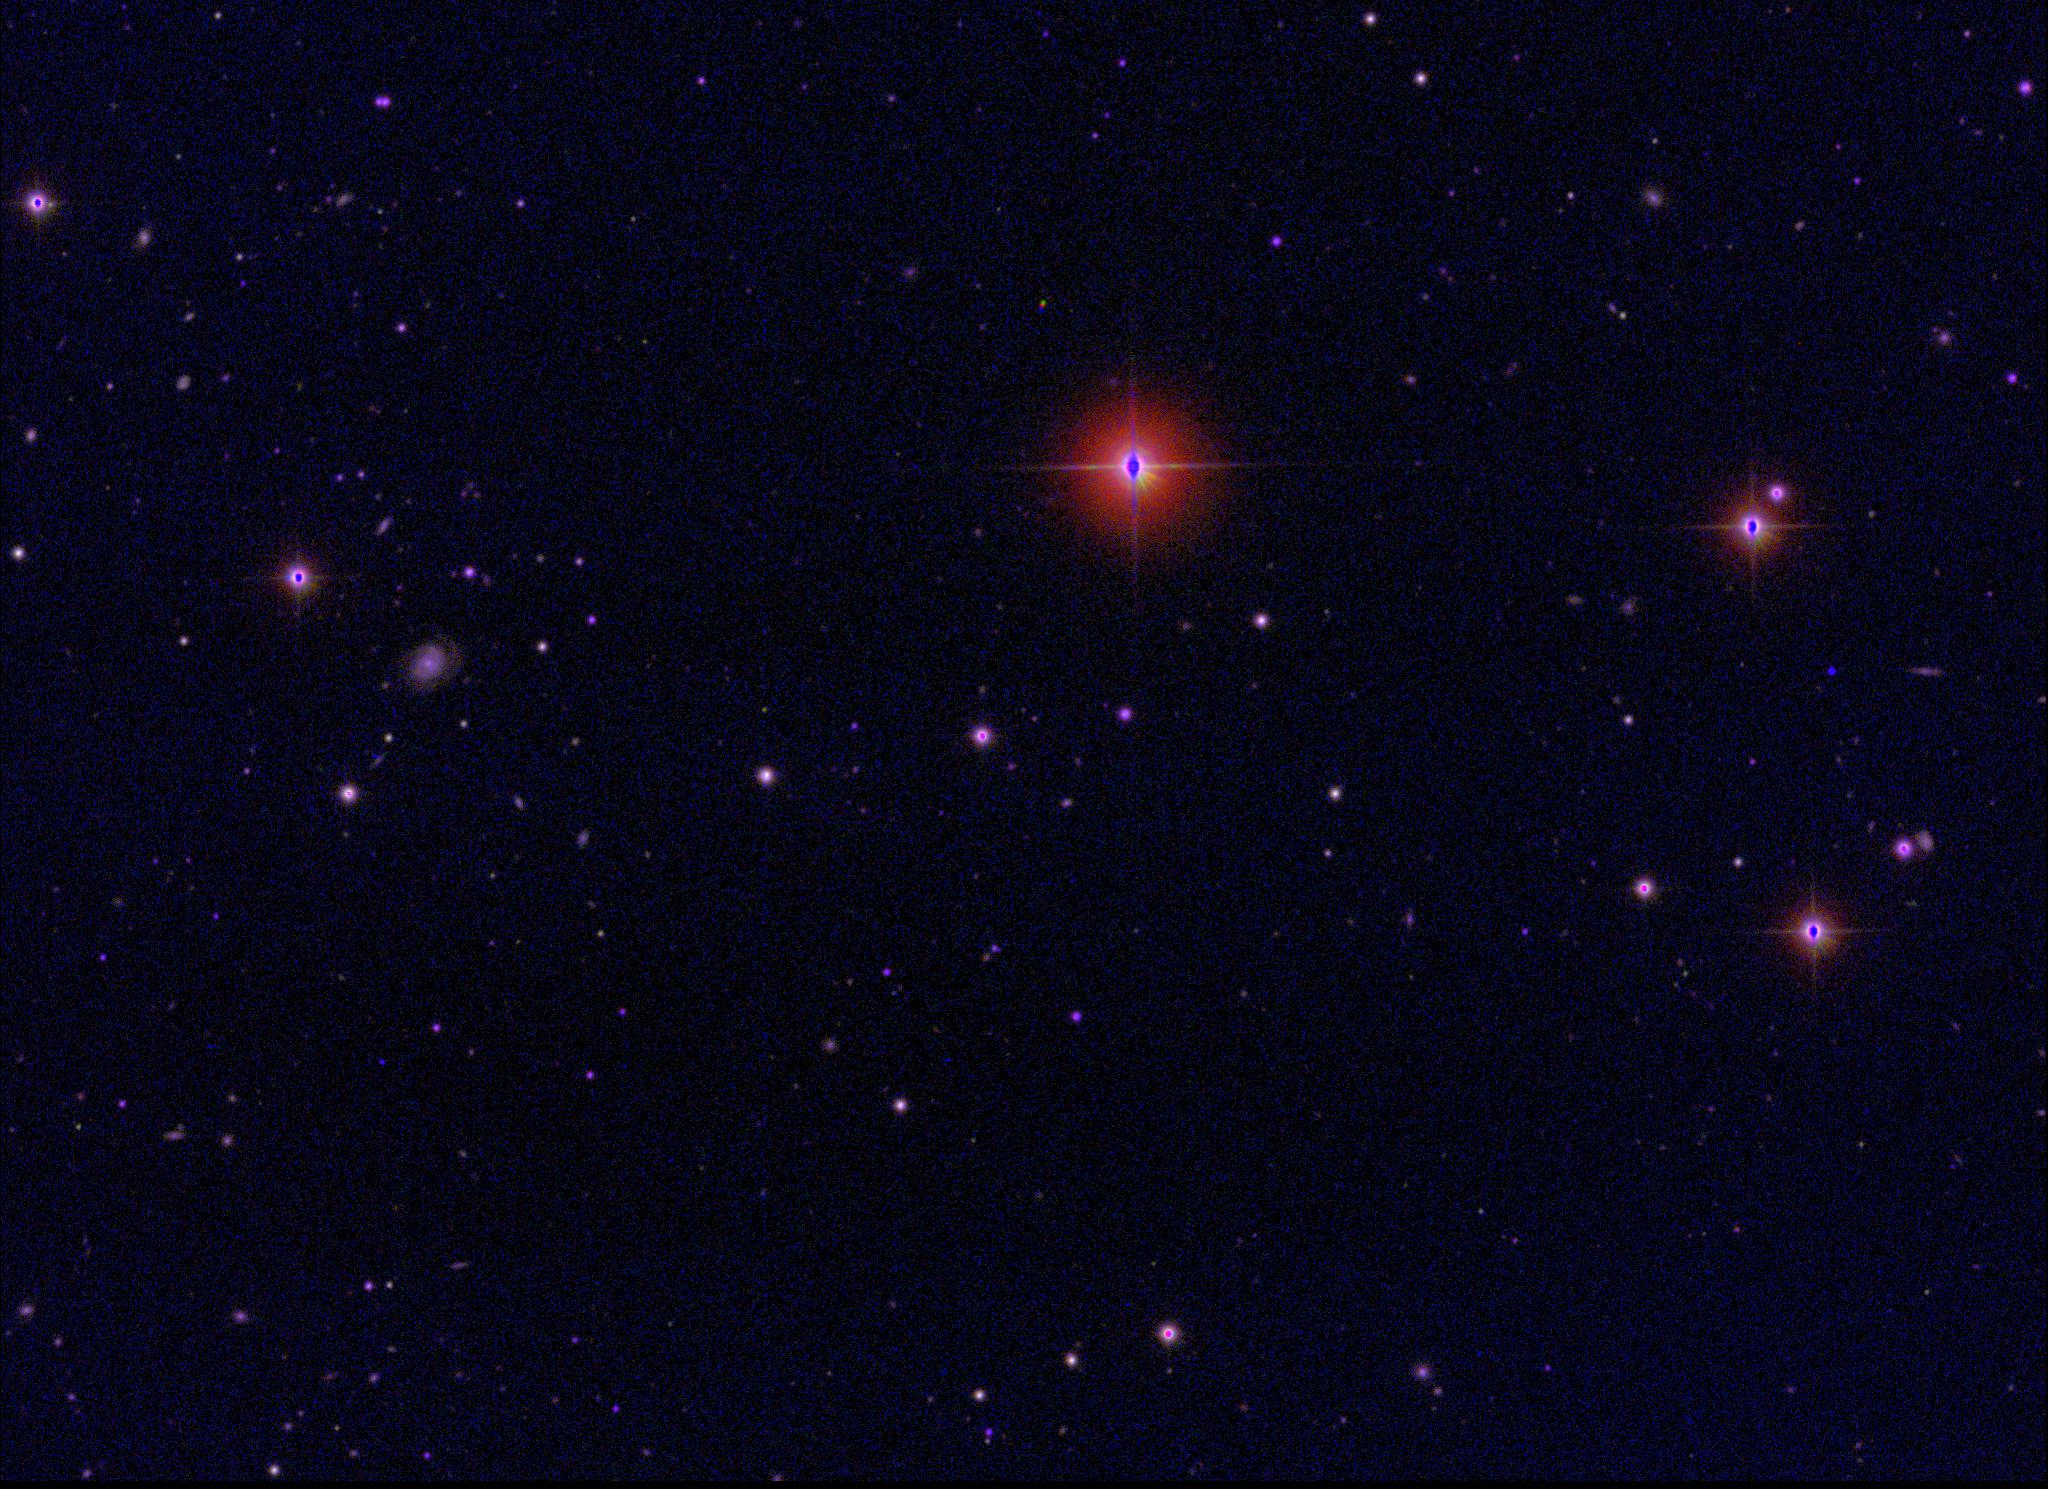L: (1824, 663, 1838, 678)
